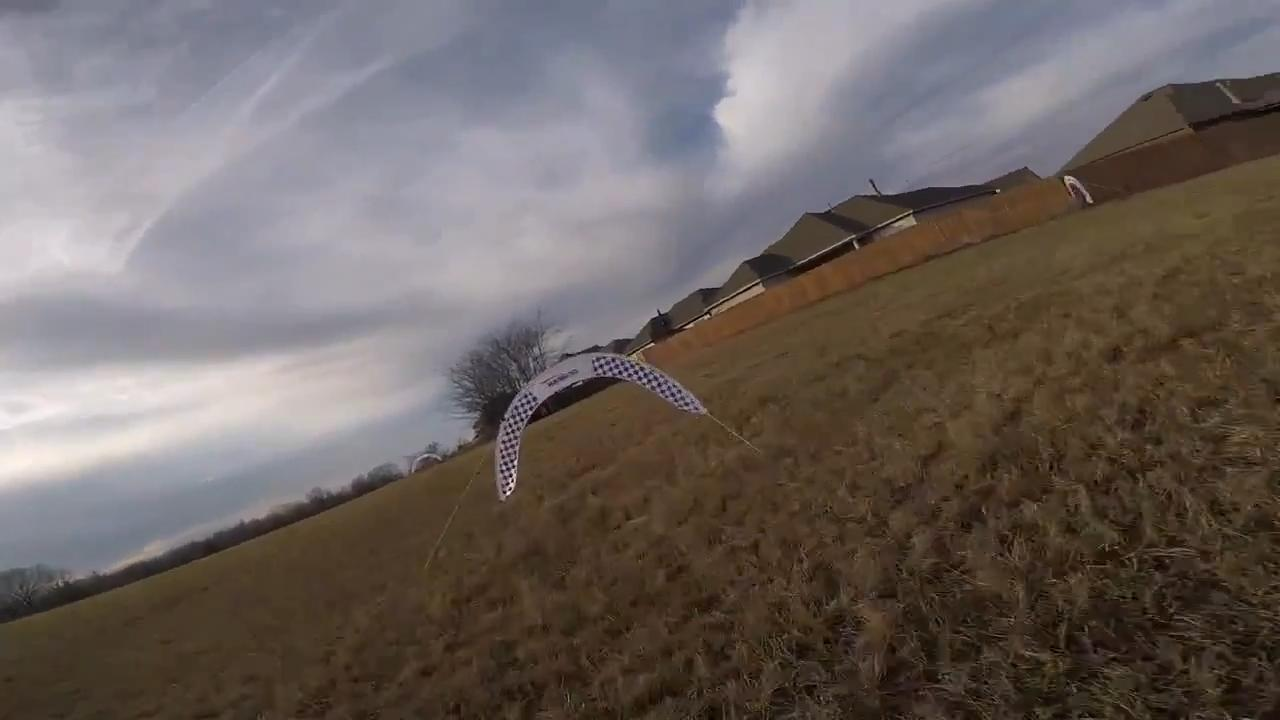gate: (490, 351, 710, 498)
